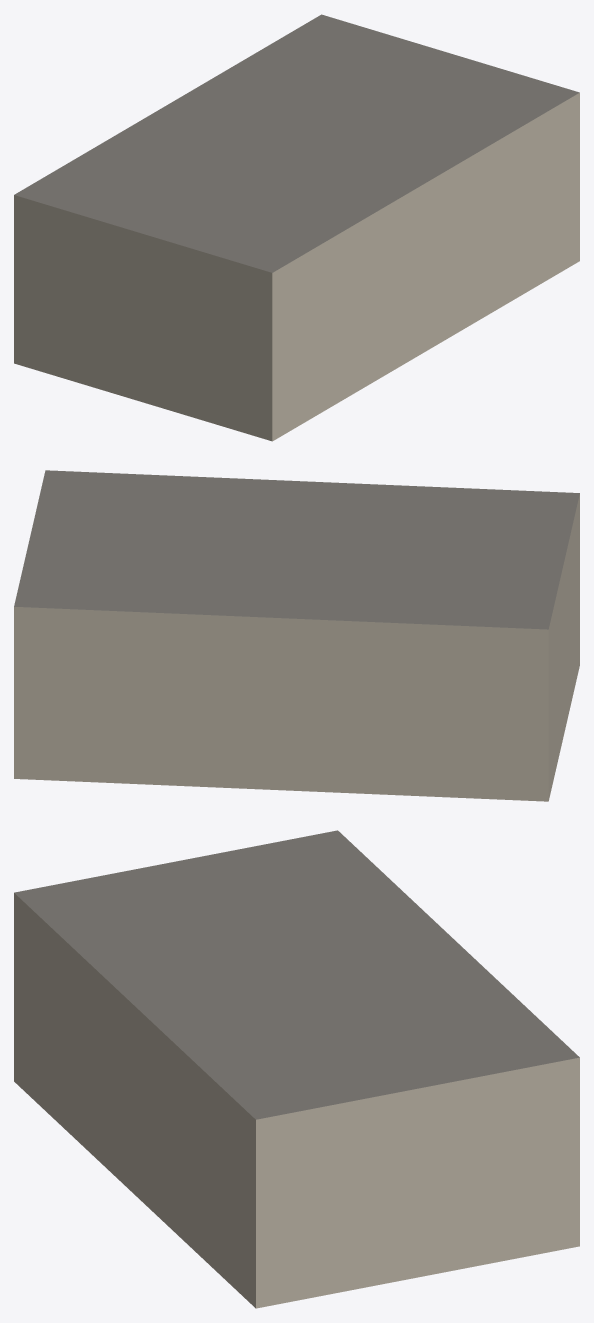
3 views of the same model, one above another, from view 1: azimuth 30°, elevation 25°; view 2: azimuth 150°, elevation 25°; view 3: azimuth 270°, elevation 25° (orthographic). The views are drawn at different scales.
Parts seen in each view (by area): view 1: HP-w71308771; view 2: HP-w71308771; view 3: HP-w71308771.
Part boxes in pixels (box(x1,y1,x2,y2)): HP-w71308771: box(14, 14, 579, 441); HP-w71308771: box(14, 470, 579, 801); HP-w71308771: box(14, 830, 579, 1308).
Bounding box in the file's own units: 59.16 × 18 × 48.9.
